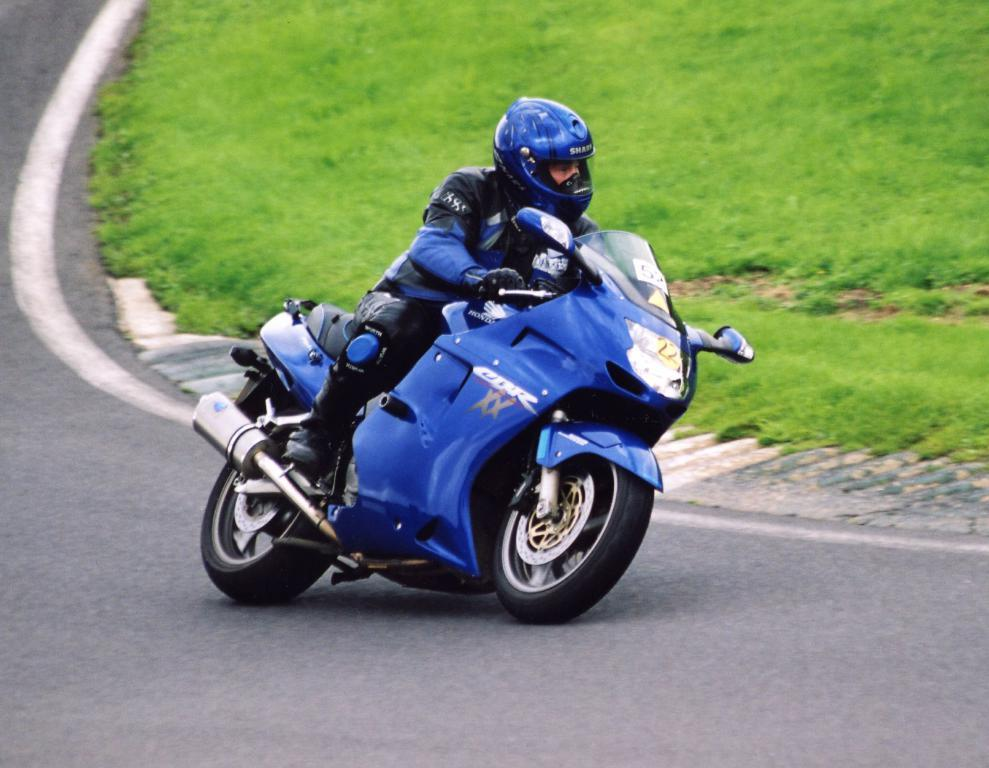helmet: (492, 96, 595, 222)
